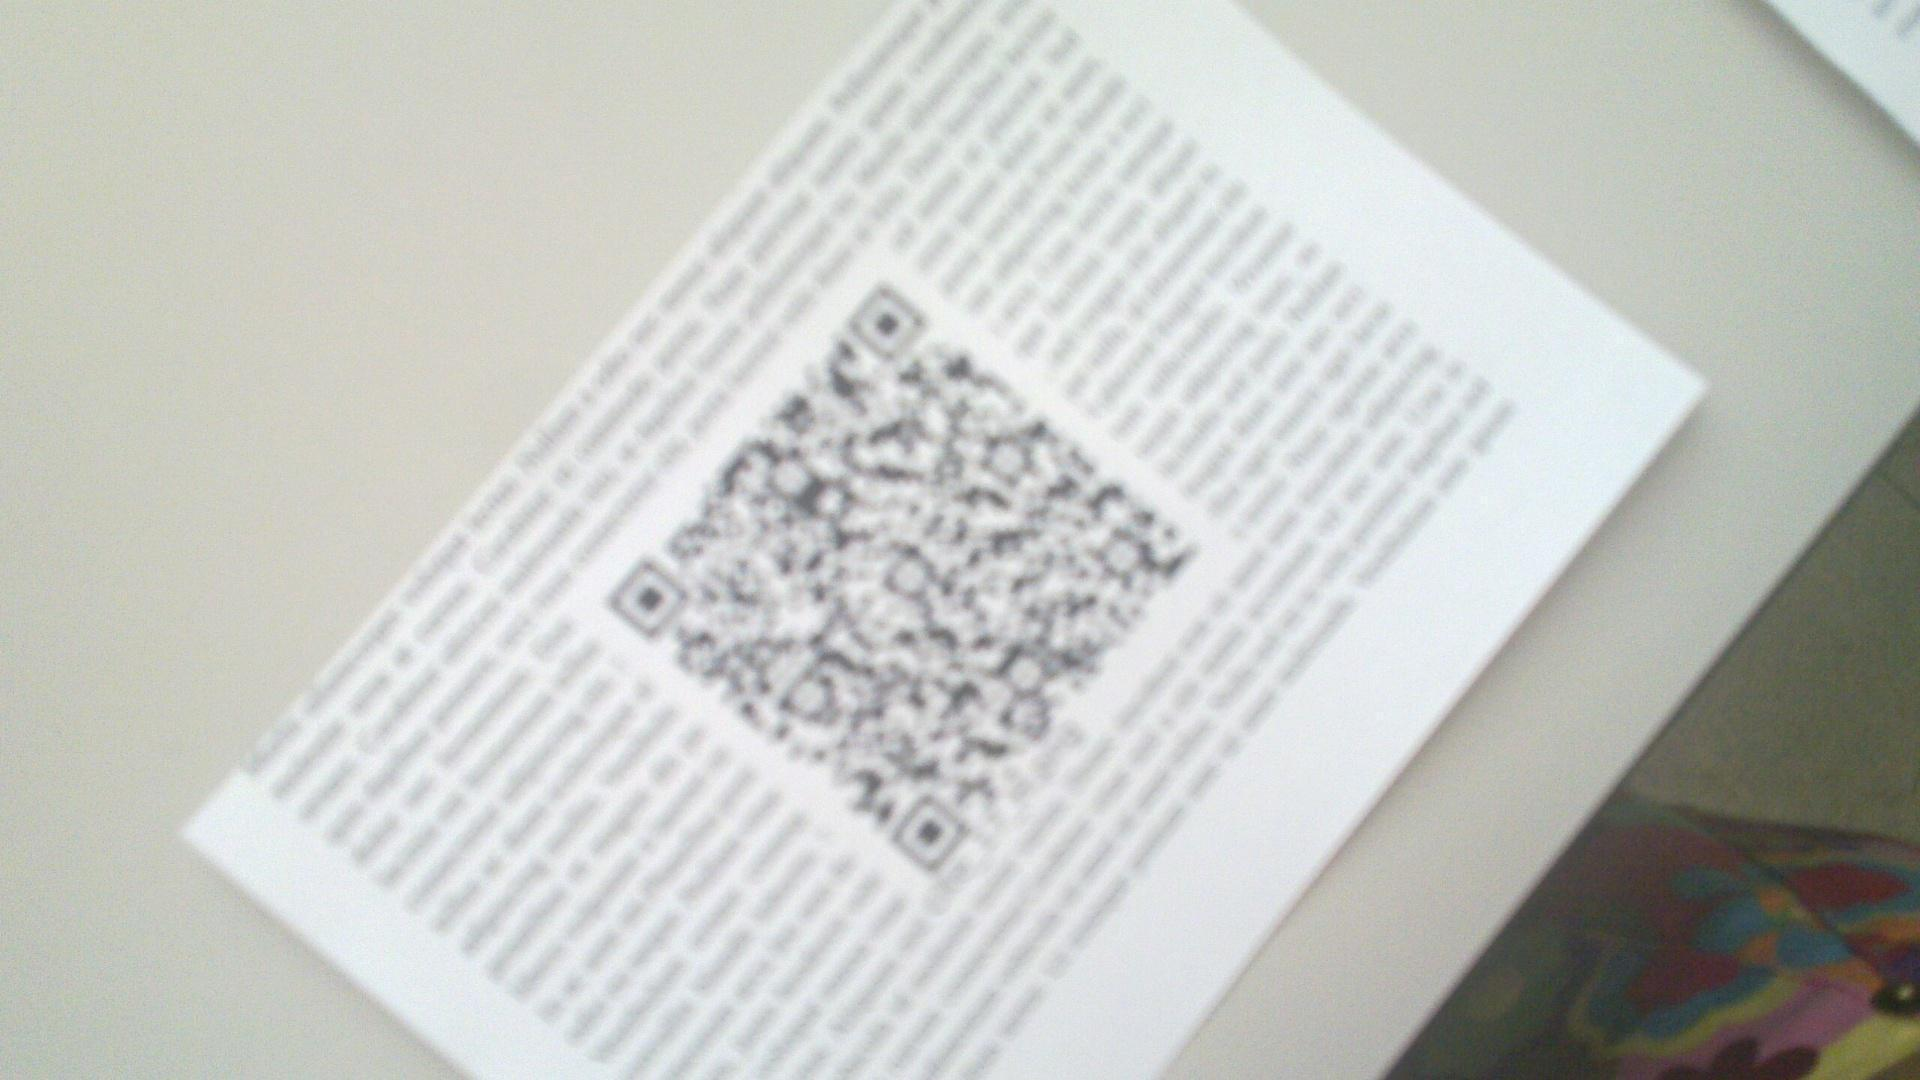qr_code: (608, 280, 1201, 874)
